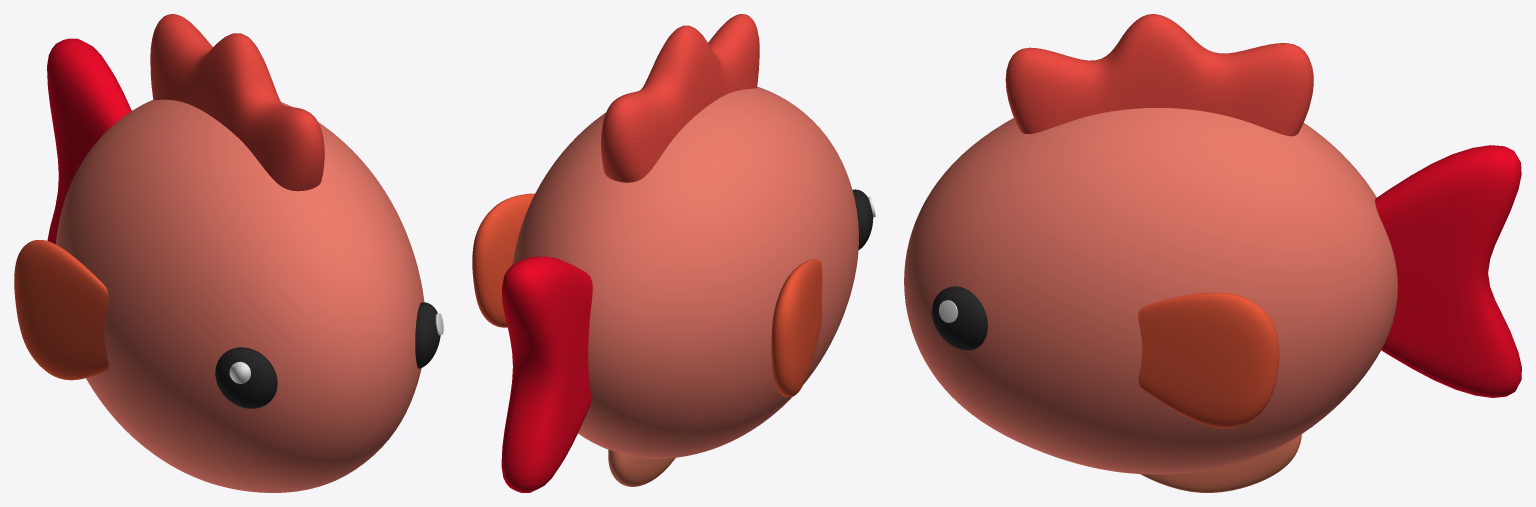
Rendered from fish_2crown.glb.
3 renders of one model, left to right at view 1: azimuth 30°, elevation 25°; view 2: azimuth 150°, elevation 25°; view 3: azimuth 270°, elevation 25°, orthographic. The views are drawn at different scales.
Visible parts, largest first — view 1: ahaxhd, qutmf, mainwinnng, Rhfl, eyeee, Cylinder; view 2: ahaxhd, Rhfl, qutmf, mainwinnng, dnltsha, eyeee; view 3: ahaxhd, Rhfl, qutmf, mainwinnng, dnltsha, eyeee.
Boxes of the visible parts, x1=… form: ahaxhd: x1=56, y1=99, x2=424, y2=492; qutmf: x1=150, y1=14, x2=324, y2=191; mainwinnng: x1=14, y1=240, x2=108, y2=380; Rhfl: x1=47, y1=38, x2=131, y2=243; eyeee: x1=215, y1=302, x2=440, y2=408; Cylinder: x1=229, y1=313, x2=443, y2=383; ahaxhd: x1=512, y1=86, x2=858, y2=458; Rhfl: x1=501, y1=256, x2=592, y2=492; qutmf: x1=601, y1=14, x2=759, y2=182; mainwinnng: x1=472, y1=193, x2=822, y2=397; dnltsha: x1=608, y1=449, x2=675, y2=486; eyeee: x1=852, y1=189, x2=873, y2=249; ahaxhd: x1=904, y1=107, x2=1397, y2=474; Rhfl: x1=1375, y1=145, x2=1521, y2=397; qutmf: x1=1005, y1=14, x2=1313, y2=136; mainwinnng: x1=1138, y1=292, x2=1279, y2=428; dnltsha: x1=1140, y1=434, x2=1301, y2=492; eyeee: x1=932, y1=286, x2=987, y2=350.
Bounding box in the file's own units: 4.72 × 6.15 × 7.27.
